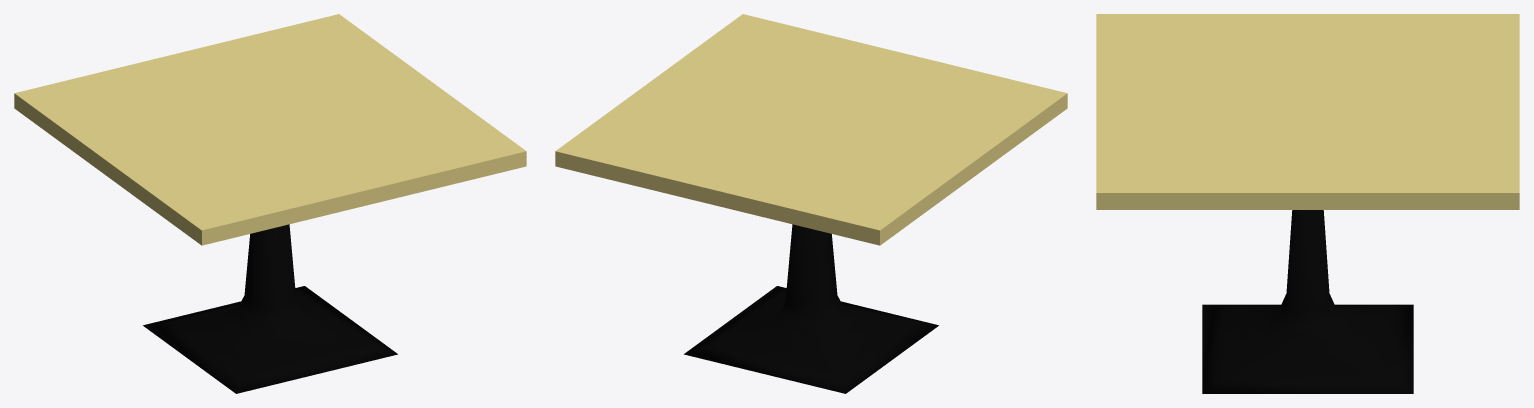
The model's file is Table.dae.
3 views of the same model, side by side, from view 1: azimuth 30°, elevation 25°; view 2: azimuth 150°, elevation 25°; view 3: azimuth 270°, elevation 25° (orthographic). The views are drawn at different scales.
Parts seen in each view (by area): view 1: Table; view 2: Table; view 3: Table.
Part boxes in pixels (bbox=[...]): Table: bbox=[14, 14, 526, 393]; Table: bbox=[555, 14, 1067, 393]; Table: bbox=[1096, 14, 1519, 393].
Size of the model in its own units: 4.4 by 4.4 by 2.82.
